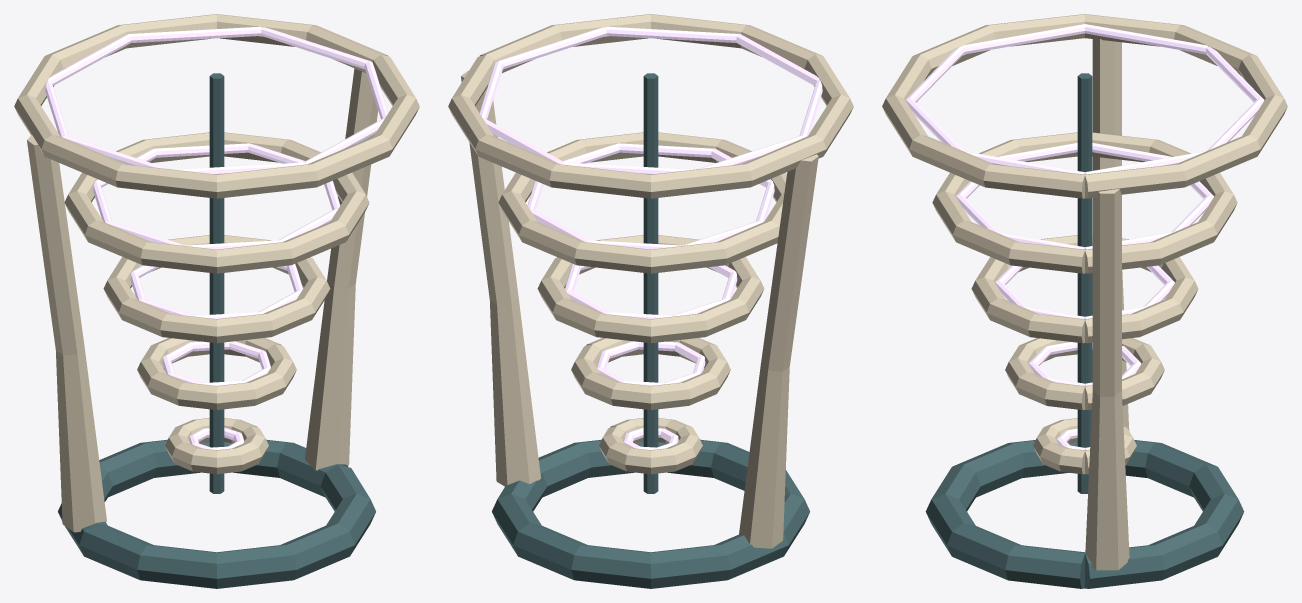
File: marker_exit.glb
3 views of the same model, side by side, from view 1: azimuth 30°, elevation 25°; view 2: azimuth 150°, elevation 25°; view 3: azimuth 270°, elevation 25° (orthographic).
Visible parts, largest first — view 1: marker_exit_bone, marker_exit_iron, marker_exit_violet; view 2: marker_exit_bone, marker_exit_iron, marker_exit_violet; view 3: marker_exit_bone, marker_exit_iron, marker_exit_violet.
Part boxes in pixels (box(x1,y1,x2,y2)): marker_exit_bone: box(14, 14, 419, 532); marker_exit_iron: box(58, 73, 375, 588); marker_exit_violet: box(45, 26, 388, 449); marker_exit_bone: box(448, 14, 853, 548); marker_exit_iron: box(492, 73, 809, 588); marker_exit_violet: box(479, 26, 822, 449); marker_exit_bone: box(882, 14, 1287, 570); marker_exit_iron: box(925, 73, 1244, 588); marker_exit_violet: box(905, 24, 1264, 449).
Bounding box in the file's own units: 0.7253 × 0.895 × 0.726.
